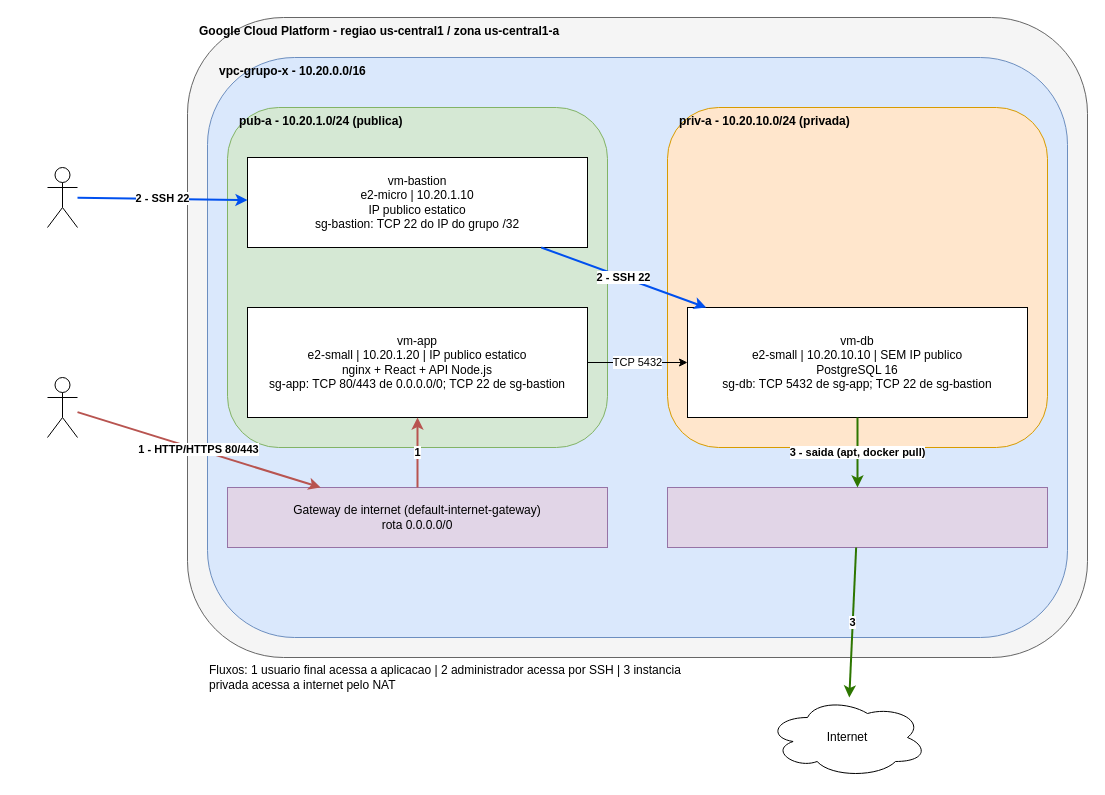
The diagram is 1105 pixels wide and 795 high, and some of its shapes have lost their labels. The centre of each missing label's shape, as x and y in pixels:
"Administrador (IP do grupo /32)" goes at point 62,197.
"Cloud Router + Cloud NAT (nat-grupo-x) atende somente priv-a" goes at point 857,517.
"Usuario final" goes at point 62,407.
